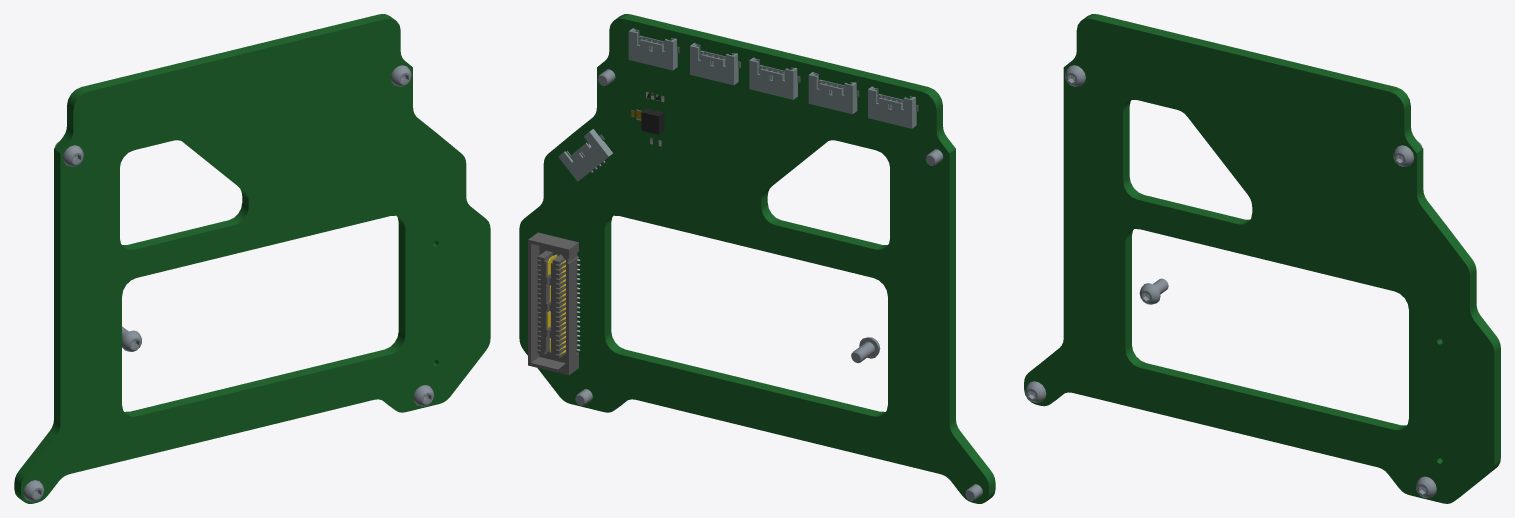
The model's file is obdh-expansion.glb.
3 views of the same model, side by side, from view 1: azimuth 30°, elevation 25°; view 2: azimuth 150°, elevation 25°; view 3: azimuth 330°, elevation 25° (orthographic).
Parts seen in each view (by area): view 1: board, parts; view 2: board, if_0, if_2, if_5, if_4, if_6, if_3, parts, if_1, blocks; view 3: board, parts.
Part boxes in pixels (bbox=[...]): board: bbox=[14, 14, 490, 503]; parts: bbox=[23, 65, 434, 501]; board: bbox=[519, 14, 995, 503]; if_0: bbox=[528, 232, 580, 375]; if_2: bbox=[628, 28, 679, 70]; if_5: bbox=[808, 72, 859, 114]; if_4: bbox=[749, 57, 800, 99]; if_6: bbox=[868, 86, 918, 128]; if_3: bbox=[690, 43, 740, 85]; parts: bbox=[575, 69, 982, 500]; if_1: bbox=[558, 129, 612, 181]; blocks: bbox=[641, 108, 664, 134]; board: bbox=[1024, 14, 1500, 503]; parts: bbox=[1025, 65, 1436, 497].
Bounding box in the file's own units: 83.1 × 67.4 × 7.84.
